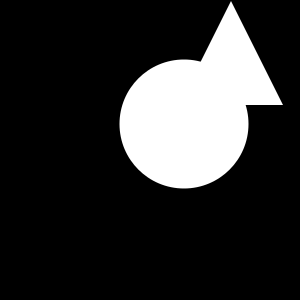rectangle: (120, 60, 248, 188)
triangle: (179, 1, 283, 105)
